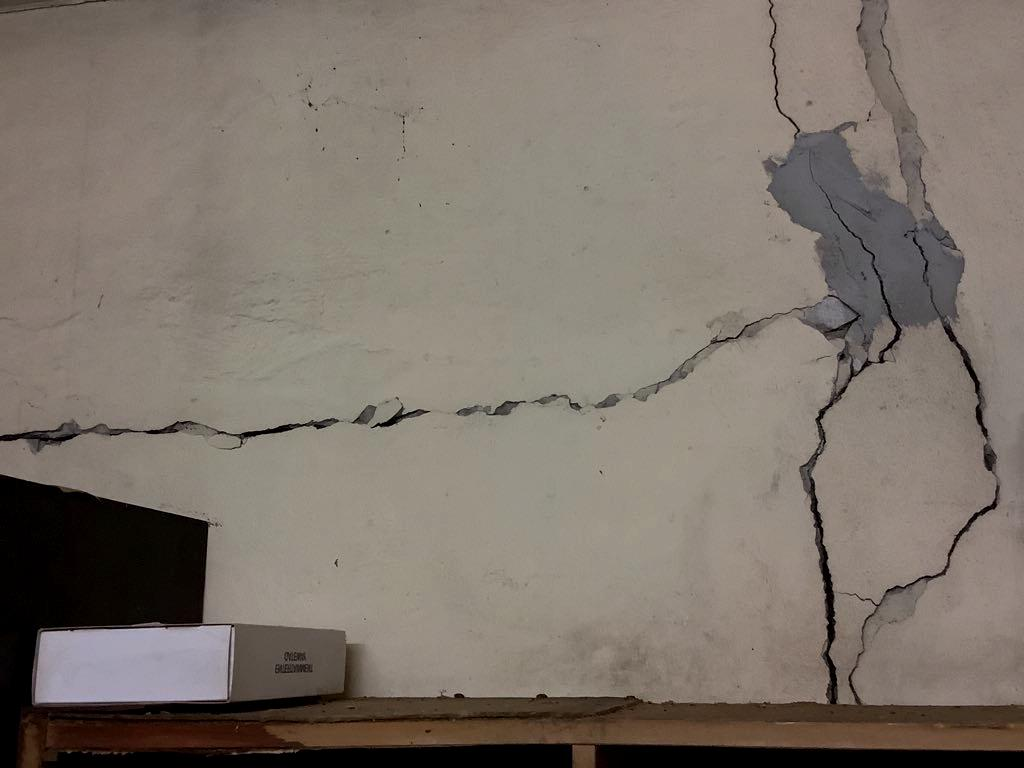High: (3, 1, 1010, 617)
